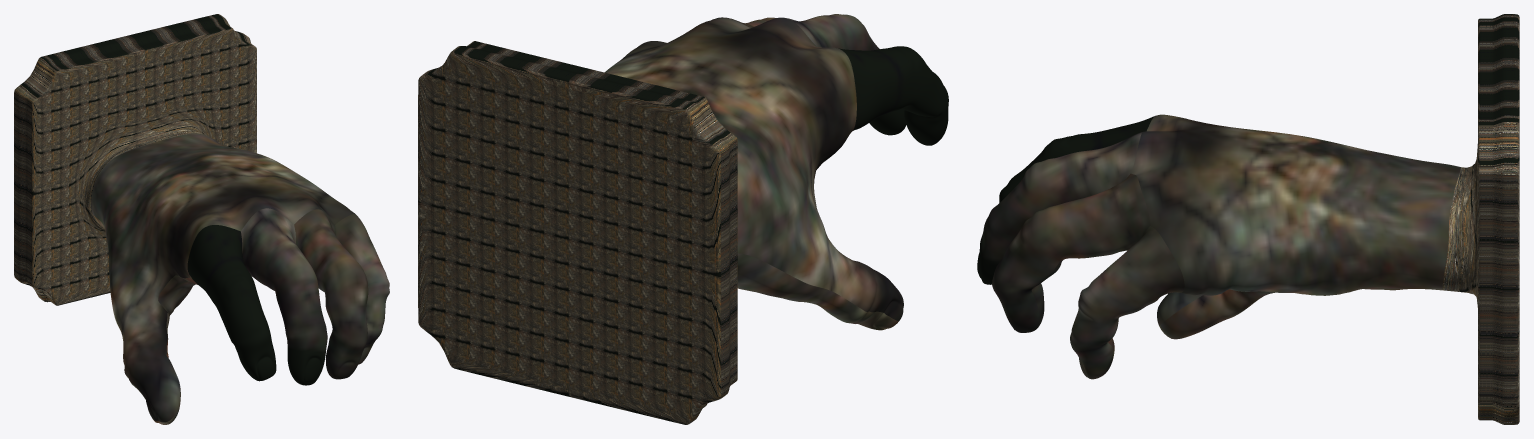
The model's file is lever.obj.
3 views of the same model, side by side, from view 1: azimuth 30°, elevation 25°; view 2: azimuth 150°, elevation 25°; view 3: azimuth 270°, elevation 25° (orthographic). The views are drawn at different scales.
Parts seen in each view (by area): view 1: 15252_KeyRingWallMountHand; view 2: 15252_KeyRingWallMountHand; view 3: 15252_KeyRingWallMountHand.
Part boxes in pixels (<box>): 15252_KeyRingWallMountHand: <box>14,14,389,424</box>; 15252_KeyRingWallMountHand: <box>418,14,948,424</box>; 15252_KeyRingWallMountHand: <box>977,14,1519,424</box>.
Bounding box in the file's own units: 12.43 × 13.52 × 20.02.
1 material, 1 textured.
